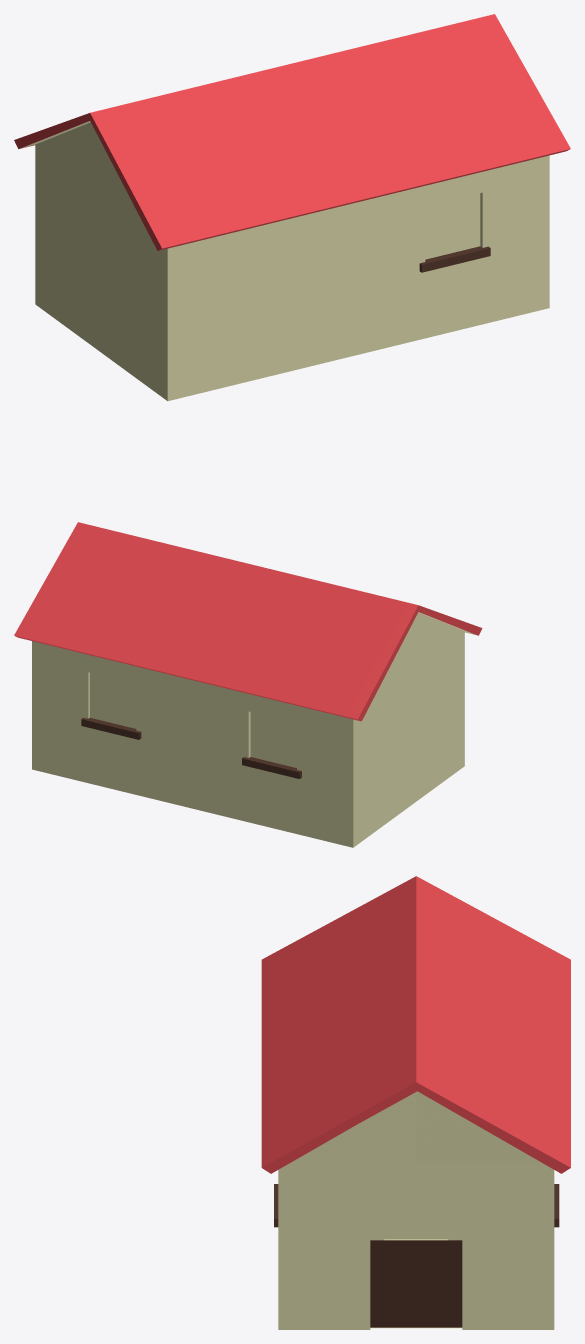
File: House.fbx
3 renders of one model, top to bottom at view 1: azimuth 30°, elevation 25°; view 2: azimuth 150°, elevation 25°; view 3: azimuth 270°, elevation 25°, orthographic. The views are drawn at different scales.
Visible parts, largest first — view 1: Cube, Cube.004; view 2: Cube, Cube.003, Cube.002; view 3: Cube, Cube.001.
Part boxes in pixels (box(x1,y1,x2,y2)): Cube: box(14, 14, 570, 401); Cube.004: box(419, 246, 490, 272); Cube: box(14, 522, 482, 847); Cube.003: box(81, 717, 141, 739); Cube.002: box(242, 757, 301, 778); Cube: box(261, 876, 570, 1329); Cube.001: box(370, 1240, 462, 1327).
Size of the model in its own units: 10743 by 6077 by 12101.
